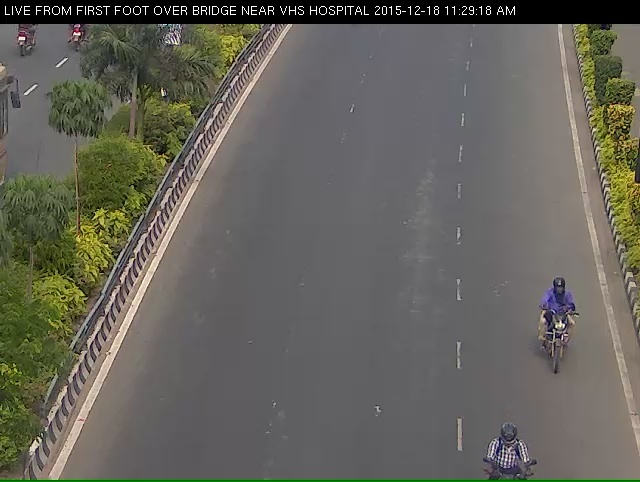Person: (536, 288, 583, 397)
